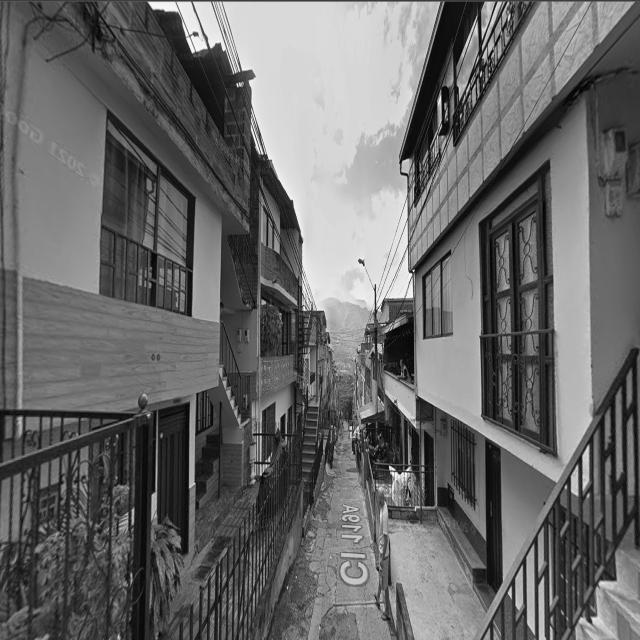Fachada: (0, 0, 249, 639), (399, 0, 640, 639), (214, 147, 303, 487), (383, 316, 436, 506), (302, 310, 333, 480)
Poste: (372, 282, 379, 413), (359, 260, 369, 275)
